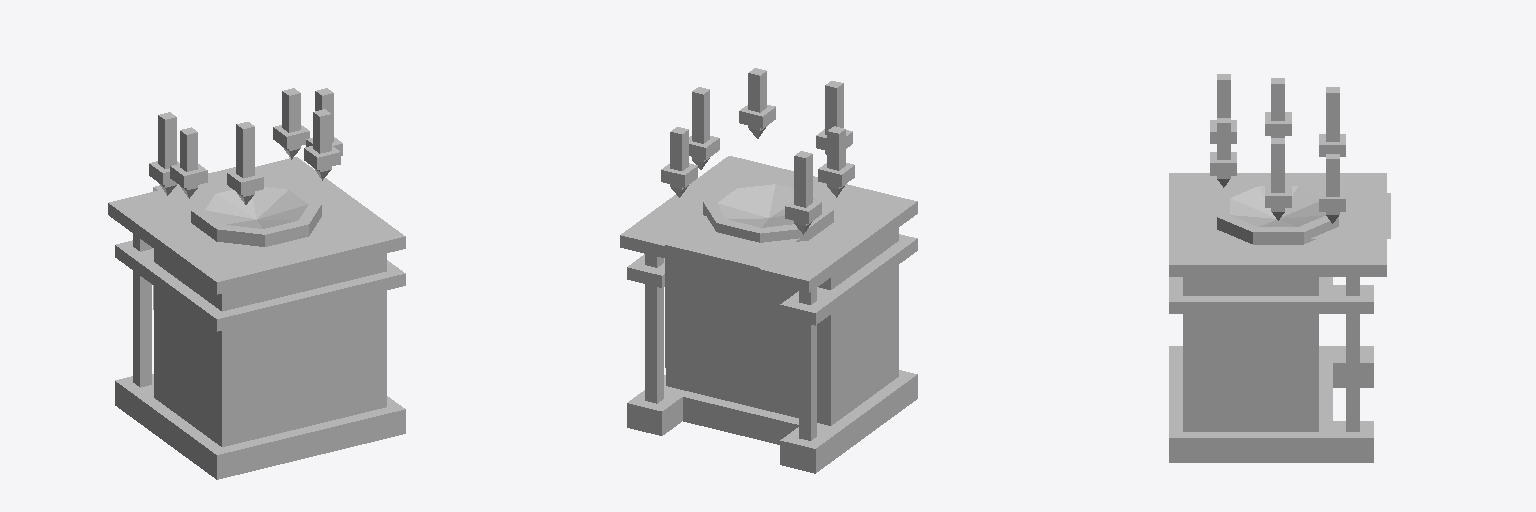
File: altar_of_arcana_inventory.obj
The picture shows the model from 3 angles: view 1: azimuth 30°, elevation 25°; view 2: azimuth 150°, elevation 25°; view 3: azimuth 270°, elevation 25°; orthographic projection.
Visible parts, largest first — view 1: DESK_SINGLE_MAIN.006, ENSORCELLATION_INVENTORY_Cube.014, ENSORCELLATION_MAIN_Cylinder.001; view 2: DESK_SINGLE_MAIN.006, ENSORCELLATION_MAIN_Cylinder.001, ENSORCELLATION_INVENTORY_Cube.014; view 3: DESK_SINGLE_MAIN.006, ENSORCELLATION_MAIN_Cylinder.001, ENSORCELLATION_INVENTORY_Cube.014.
Part boxes in pixels (bbox=[...]): DESK_SINGLE_MAIN.006: bbox=[108, 157, 405, 479]; ENSORCELLATION_INVENTORY_Cube.014: bbox=[149, 88, 342, 204]; ENSORCELLATION_MAIN_Cylinder.001: bbox=[153, 167, 321, 309]; DESK_SINGLE_MAIN.006: bbox=[620, 156, 917, 473]; ENSORCELLATION_MAIN_Cylinder.001: bbox=[665, 178, 833, 390]; ENSORCELLATION_INVENTORY_Cube.014: bbox=[661, 68, 854, 234]; DESK_SINGLE_MAIN.006: bbox=[1169, 173, 1386, 462]; ENSORCELLATION_MAIN_Cylinder.001: bbox=[1217, 181, 1390, 244]; ENSORCELLATION_INVENTORY_Cube.014: bbox=[1210, 74, 1345, 223].
Bounding box in the file's own units: 1 × 1.62 × 1.02.